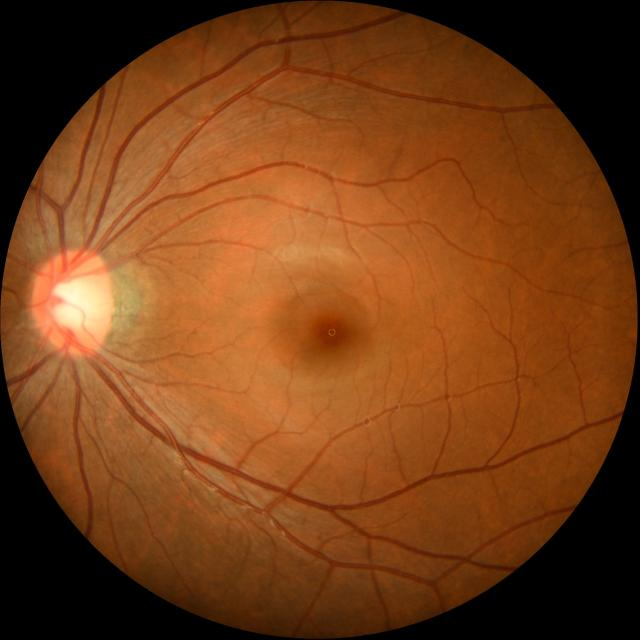OC: (50, 274, 99, 330)
OD: (31, 248, 115, 354)
